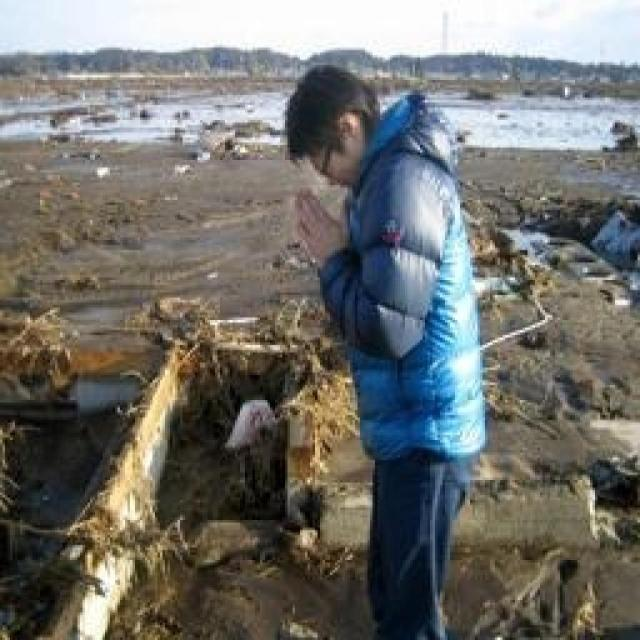Helmet: (342, 126, 482, 477), (239, 60, 395, 194)
